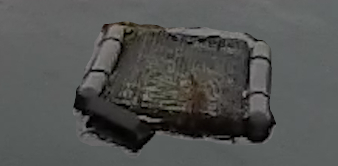bag: (71, 19, 277, 157)
